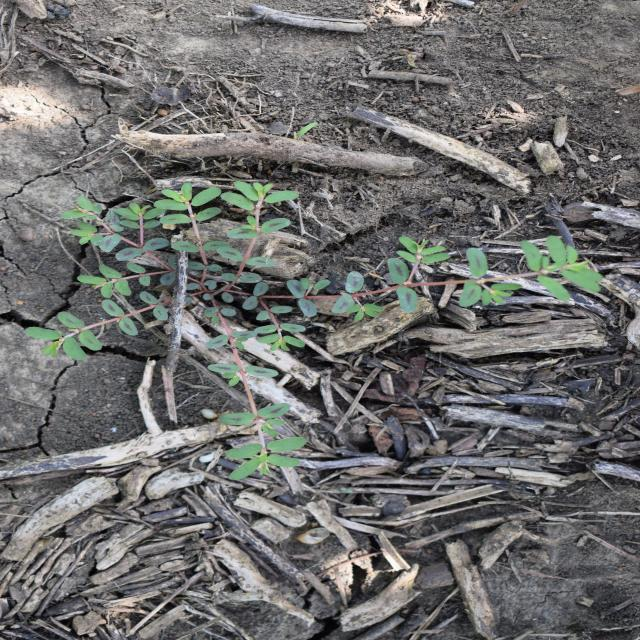SpottedSpurge: (21, 180, 611, 483)
